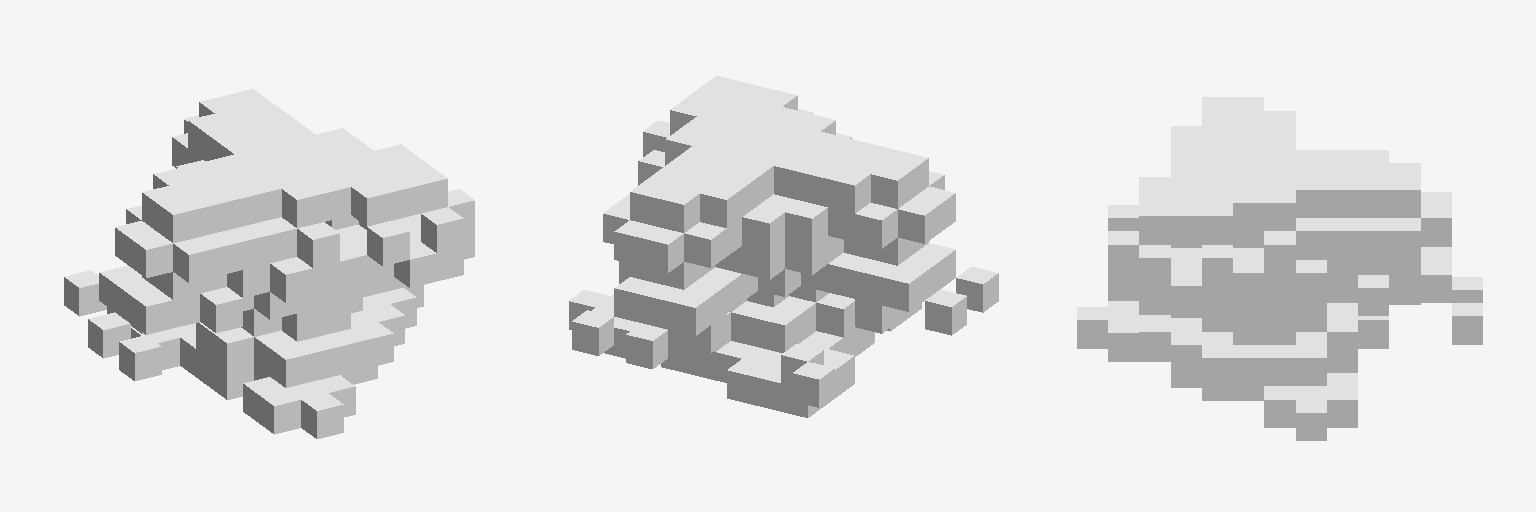
The model's file is FygarSquishQuarter.obj.
3 renders of one model, left to right at view 1: azimuth 30°, elevation 25°; view 2: azimuth 150°, elevation 25°; view 3: azimuth 270°, elevation 25°, orthographic.
Visible parts, largest first — view 1: FygarQuarter; view 2: FygarQuarter; view 3: FygarQuarter.
Part boxes in pixels (x1,y1,x2,y2): FygarQuarter: (64, 89, 474, 438); FygarQuarter: (569, 76, 998, 417); FygarQuarter: (1077, 97, 1482, 440).
Bounding box in the file's own units: 1.3 × 0.7 × 1.3.